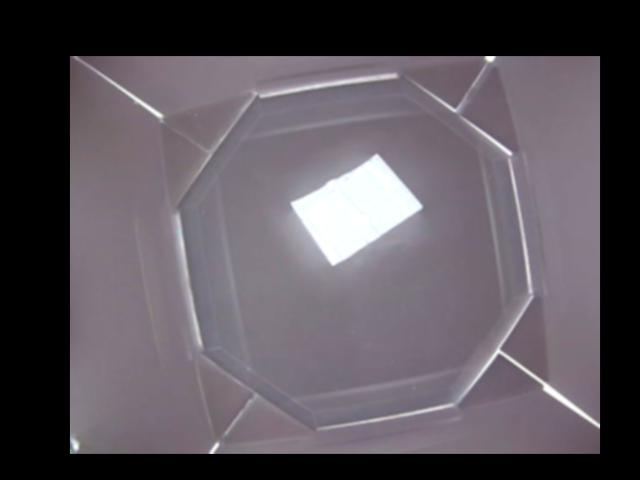China: (288, 155, 422, 263)
